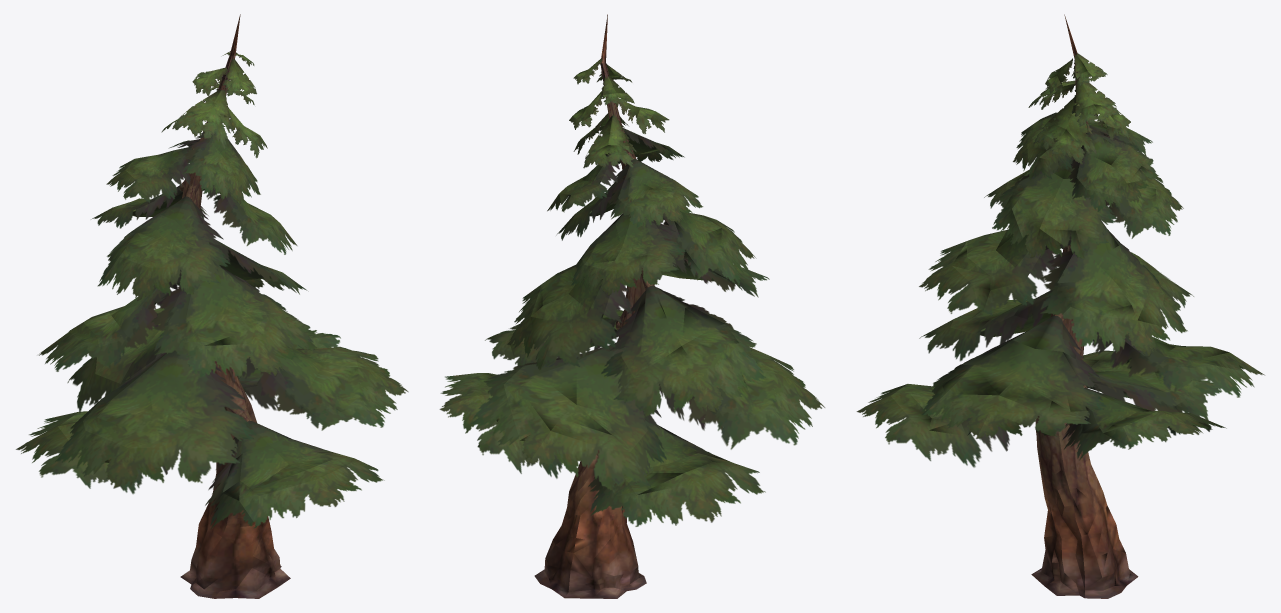
The model's file is tree.glb.
3 views of the same model, side by side, from view 1: azimuth 30°, elevation 25°; view 2: azimuth 150°, elevation 25°; view 3: azimuth 270°, elevation 25° (orthographic). The views are drawn at different scales.
Visible parts, largest first — view 1: mesh_518, mesh_516, mesh_517, mesh_515; view 2: mesh_518, mesh_516, mesh_517, mesh_515; view 3: mesh_518, mesh_516, mesh_517.
Part boxes in pixels (x1,y1,x2,y2): mesh_518: (16, 131, 408, 529); mesh_516: (180, 14, 290, 598); mesh_517: (161, 51, 267, 158); mesh_515: (179, 122, 253, 421); mesh_518: (439, 128, 824, 526); mesh_516: (534, 14, 646, 598); mesh_517: (569, 58, 669, 168); mesh_515: (615, 130, 654, 341); mesh_518: (856, 112, 1264, 467); mesh_516: (1031, 14, 1138, 598); mesh_517: (1028, 53, 1130, 164).
Size of the model in its own units: 6.12 by 10.3 by 6.86.
Materials: 4 (4 with a texture image).
